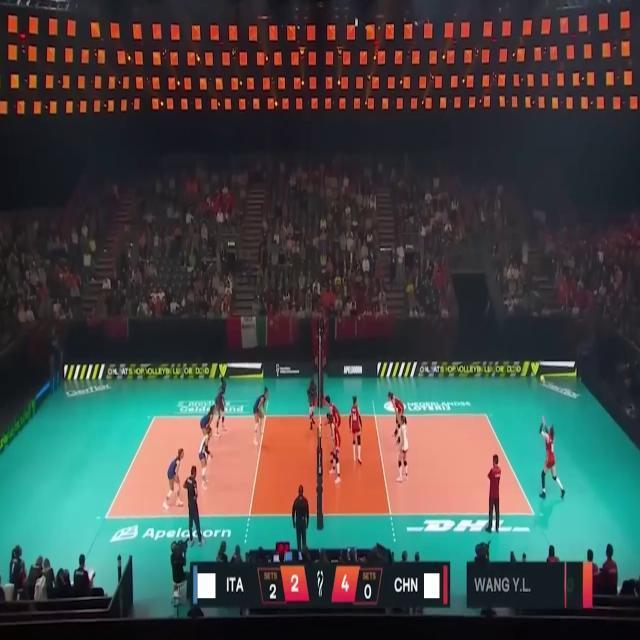volleyball: (538, 374, 546, 384)
